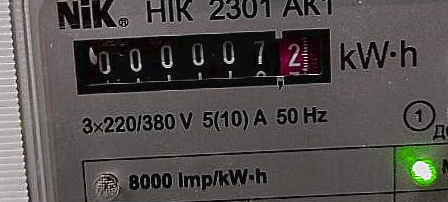0: (94, 47, 112, 74), (188, 39, 206, 66), (126, 44, 143, 72), (157, 41, 174, 69), (220, 37, 236, 66)
2: (285, 41, 302, 67)
7: (251, 36, 267, 66)
screen: (61, 21, 342, 99)
